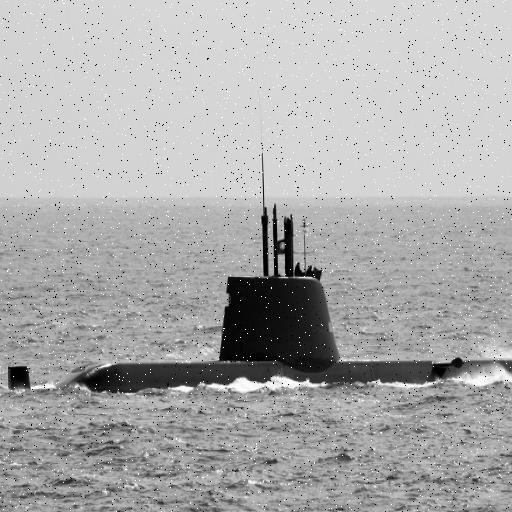submarine: (1, 194, 512, 384)
